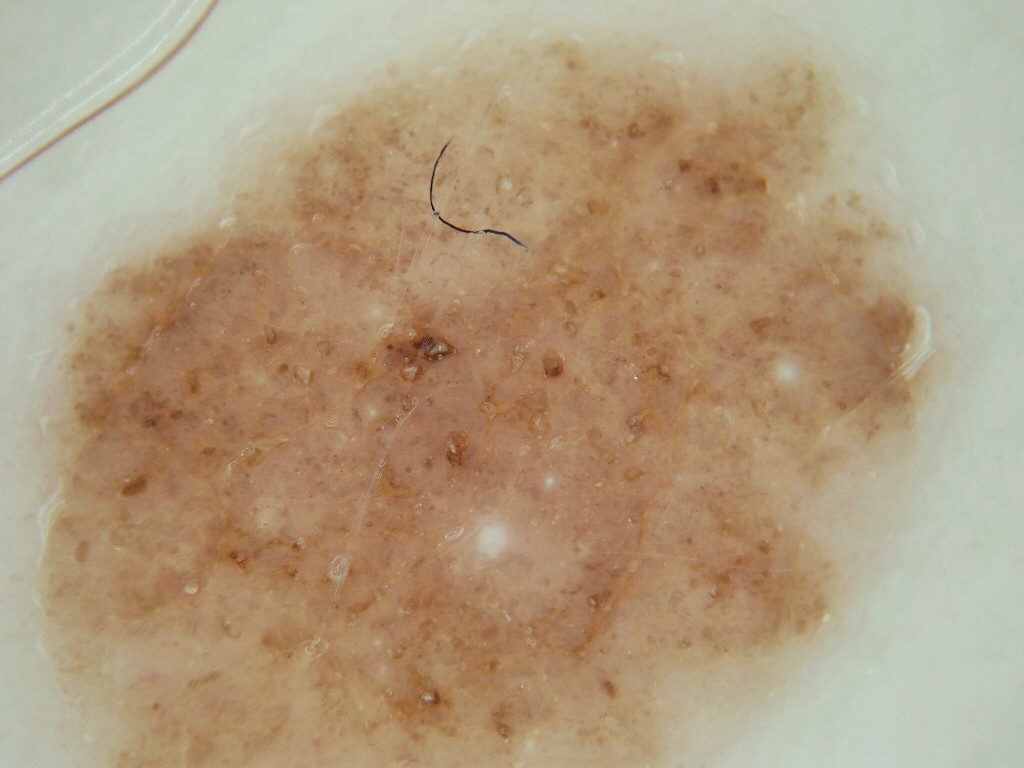Detected Lesion: (40, 31, 925, 768)
